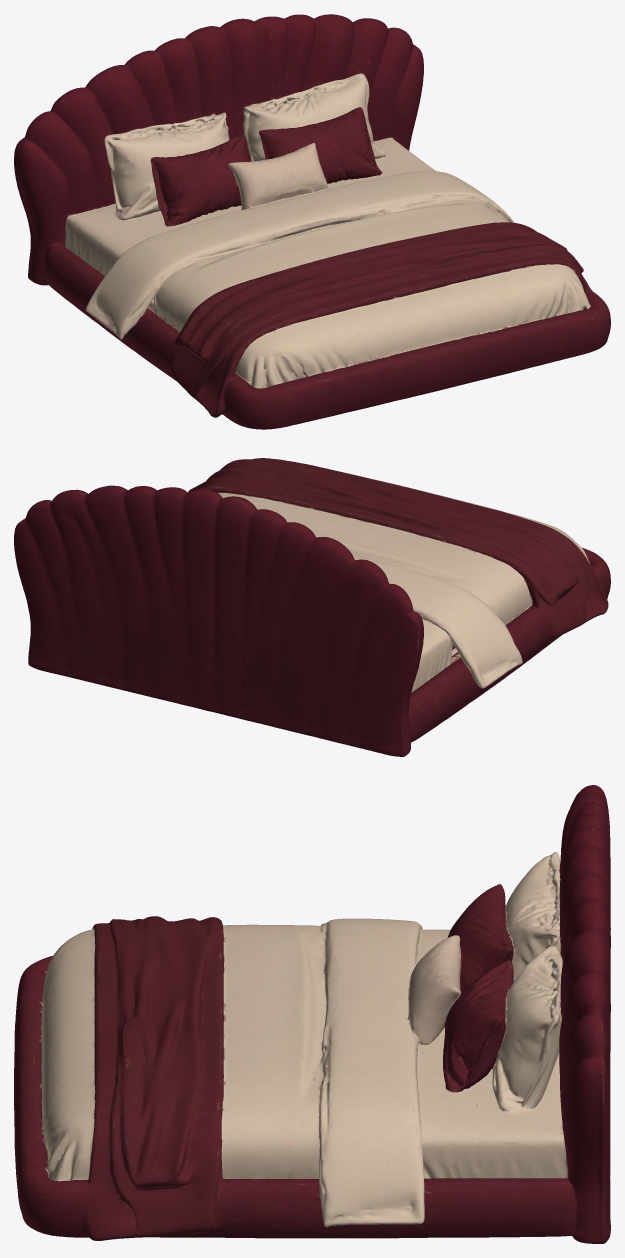
The model's file is Burgundy Velvet Upholstered Platform Bed with Scalloped Headboard [bWLyOF].glb.
3 views of the same model, one above another, from view 1: azimuth 30°, elevation 25°; view 2: azimuth 150°, elevation 25°; view 3: azimuth 270°, elevation 25° (orthographic). The views are drawn at different scales.
Parts seen in each view (by area): view 1: world; view 2: world; view 3: world.
Part boxes in pixels (box(x1,y1,x2,y2)): world: box(14, 14, 610, 429); world: box(14, 458, 610, 756); world: box(14, 785, 610, 1243).
Bounding box in the file's own units: 1 × 0.5099 × 0.961.
1 material, 1 textured.
